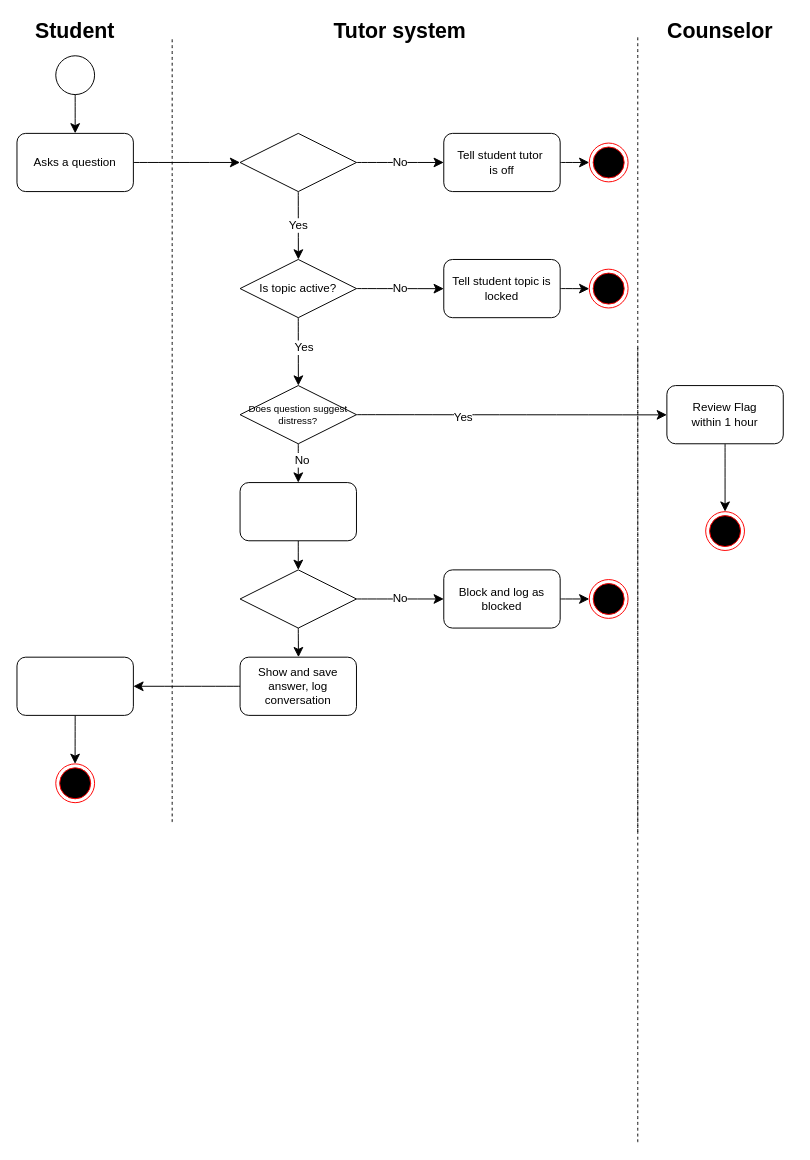
This 810x1160 diagram has some shape labels left out. Here are the shapes that lost their labels. From the top down, the centre of each, then its label:
At [297,162]: "Is tutor available?".
At [297,511]: "Generate answer according to policy".
At [297,598]: "Tutor answer passed check?".
At [74,685]: "Reads answer".
